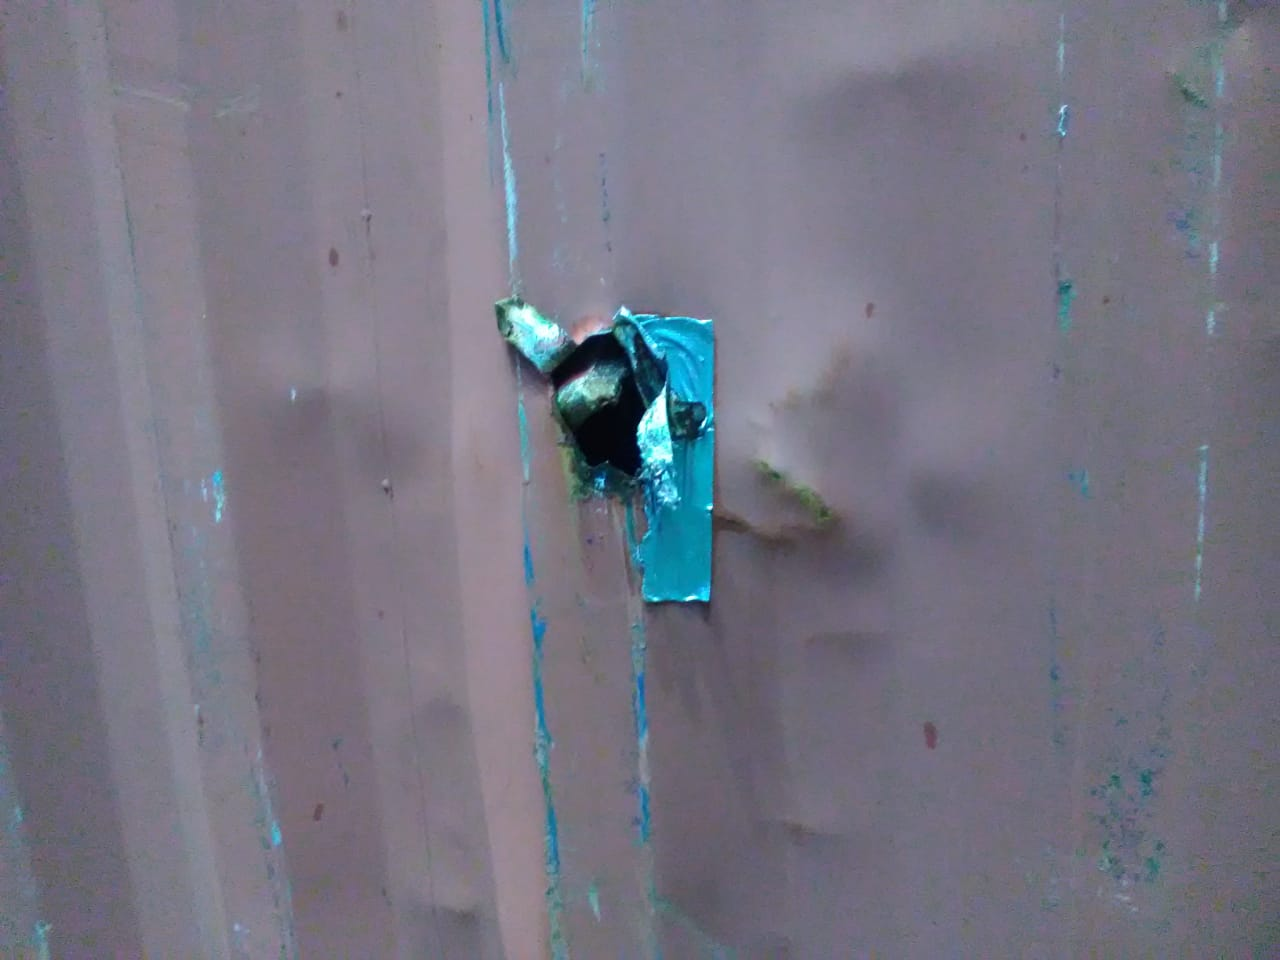severe: (357, 213, 775, 630)
